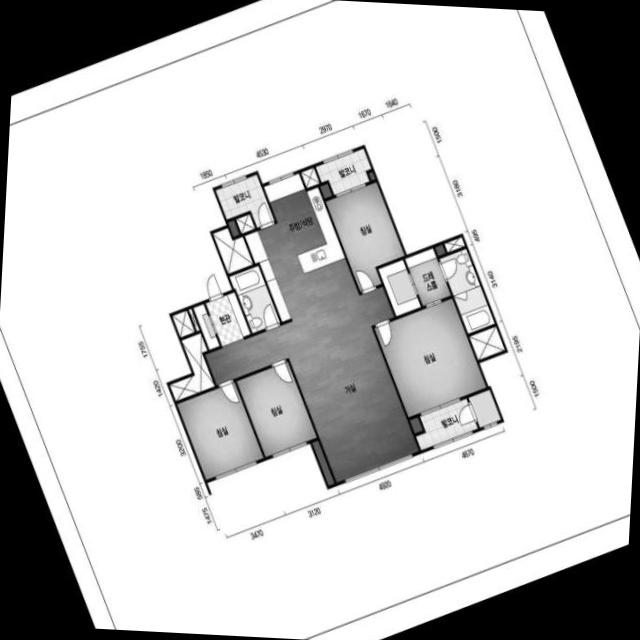background: (0, 0, 640, 640)
space_balconi: (416, 398, 478, 450), (216, 174, 275, 228), (316, 148, 372, 195)
space_bedroom: (375, 298, 486, 417), (326, 182, 405, 292), (178, 382, 264, 480), (237, 362, 317, 457)
space_dressroom: (378, 248, 451, 316)
space_front: (194, 292, 251, 350)
space_kitchen: (245, 173, 359, 322)
space_living_room: (206, 287, 419, 483)
space_other: (170, 333, 215, 401), (213, 228, 254, 274), (468, 389, 501, 428), (469, 326, 505, 360), (312, 440, 335, 485), (172, 310, 195, 338), (236, 214, 256, 234), (301, 168, 320, 188), (444, 237, 465, 253), (189, 308, 200, 331), (410, 417, 423, 433), (228, 220, 240, 237), (320, 184, 332, 199), (435, 245, 446, 256), (369, 172, 375, 181)
space_toilet: (439, 249, 495, 334), (230, 266, 281, 333)
